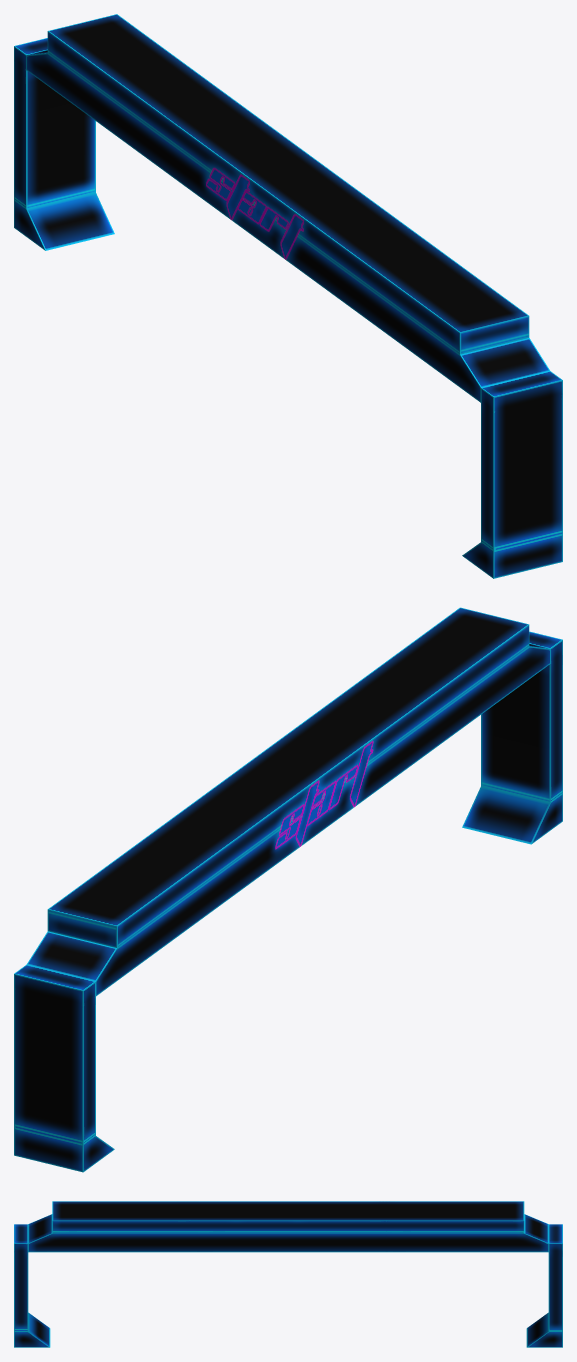
Rendered from Start Grid.fbx.
The picture shows the model from 3 angles, top to bottom: view 1: azimuth 30°, elevation 25°; view 2: azimuth 150°, elevation 25°; view 3: azimuth 270°, elevation 25°; orthographic projection. The views are drawn at different scales.
Parts seen in each view (by area): view 1: pCube1; view 2: pCube1; view 3: pCube1.
Part boxes in pixels (x1,y1,x2,y2): pCube1: (14,14,562,578); pCube1: (14,607,562,1172); pCube1: (14,1201,562,1347).
Size of the model in its own units: 19.25 by 58.73 by 230.
Materials: 1 (1 with a texture image).
